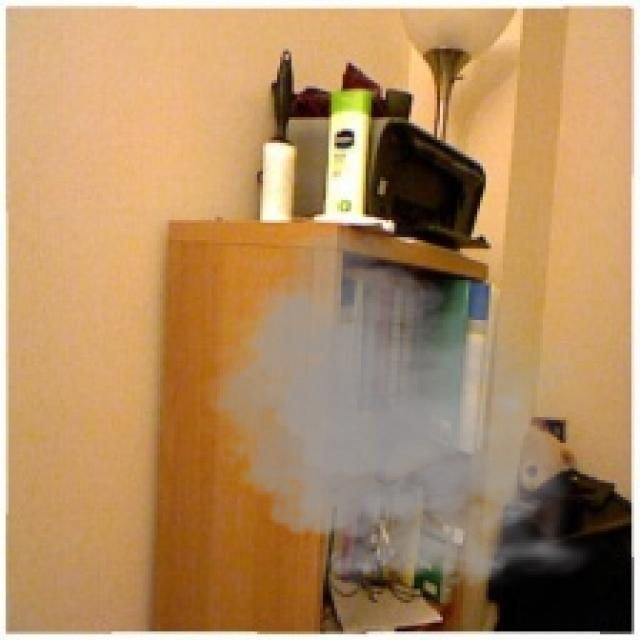Smoke: (191, 217, 603, 606)
